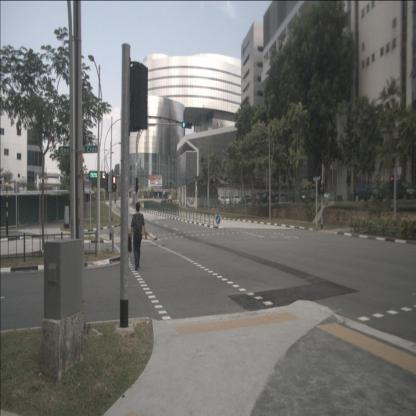human-pedestrian-adult: (130, 201, 147, 270)
vehicle-car: (379, 180, 416, 203), (353, 181, 380, 201), (290, 189, 313, 203), (261, 192, 275, 203), (251, 192, 262, 203), (230, 195, 242, 204), (220, 196, 231, 205), (240, 196, 252, 204)
